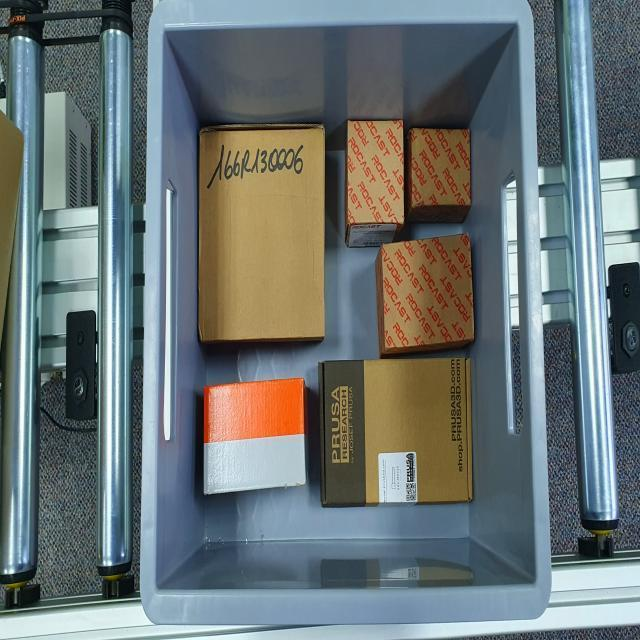box: (198, 126, 327, 339), (322, 362, 472, 502), (199, 381, 308, 489), (381, 234, 477, 346), (345, 116, 408, 226), (410, 128, 472, 210)
